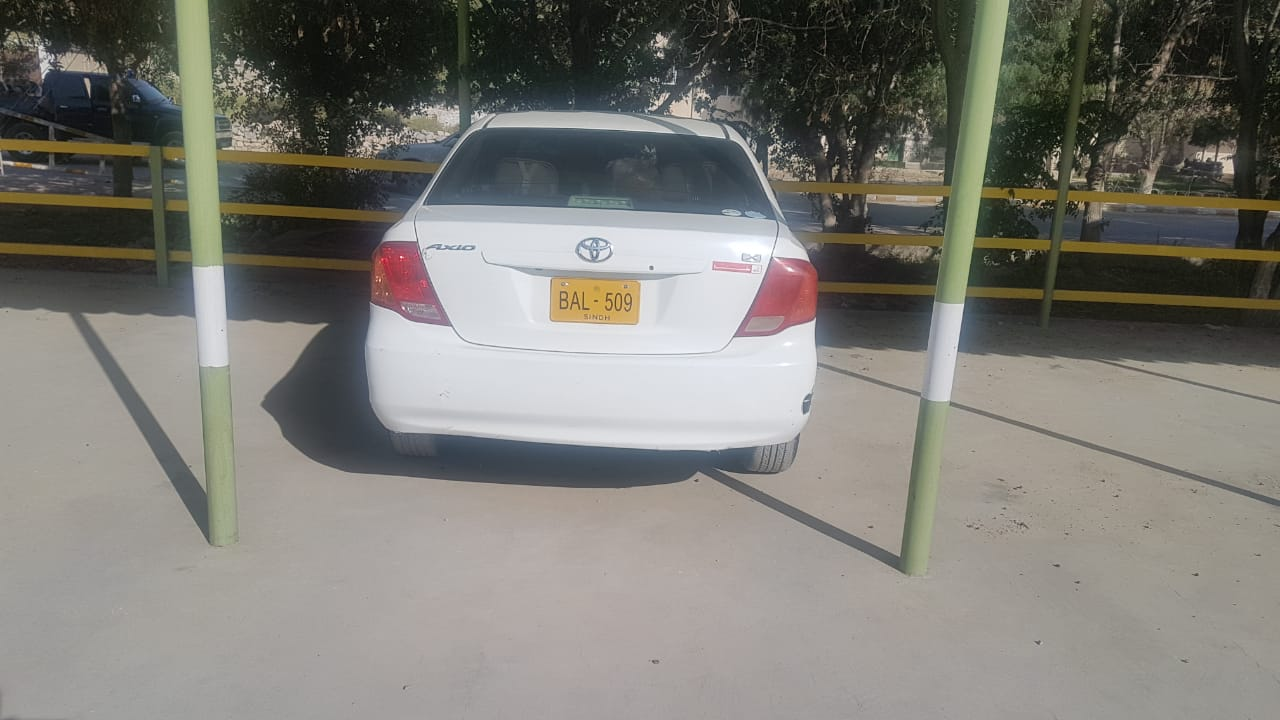license plate: (551, 276, 642, 326)
